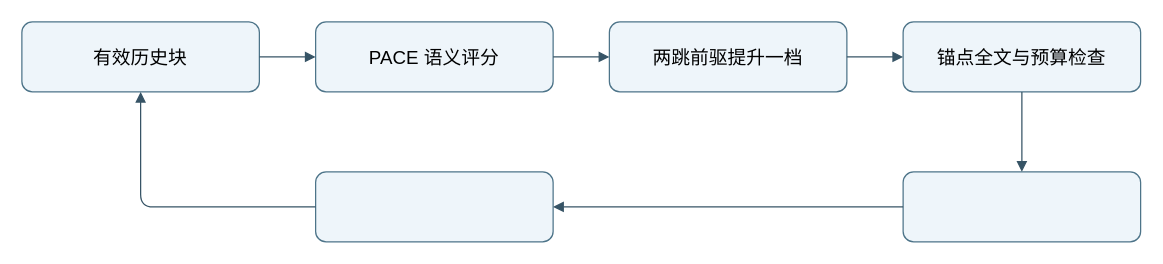
This 1163x264 diagram has some shape labels left out. Each missing label, with the centre of its shape:
"动作与依赖 ID" goes at point (1021, 206).
"校验引用、更新替代关系" goes at point (433, 206).
